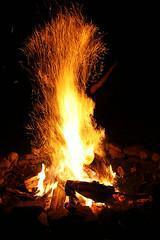fire: (21, 15, 118, 195)
